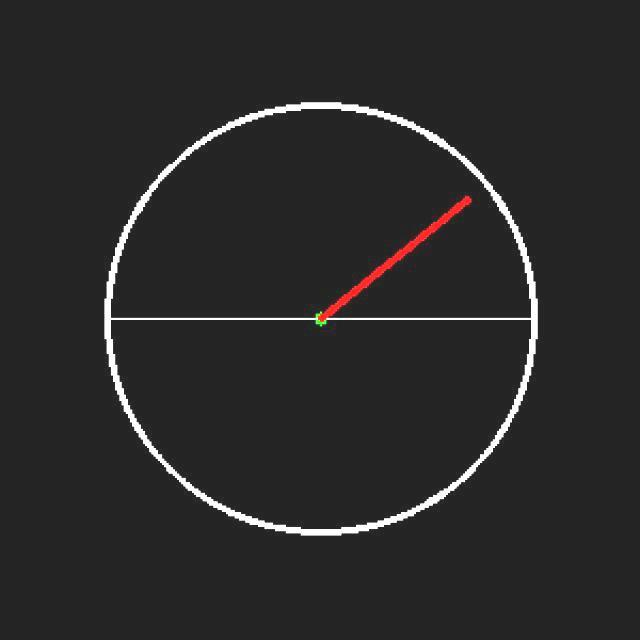Needle_Tip: (430, 177, 494, 233)
Needle_base: (303, 287, 343, 349)
